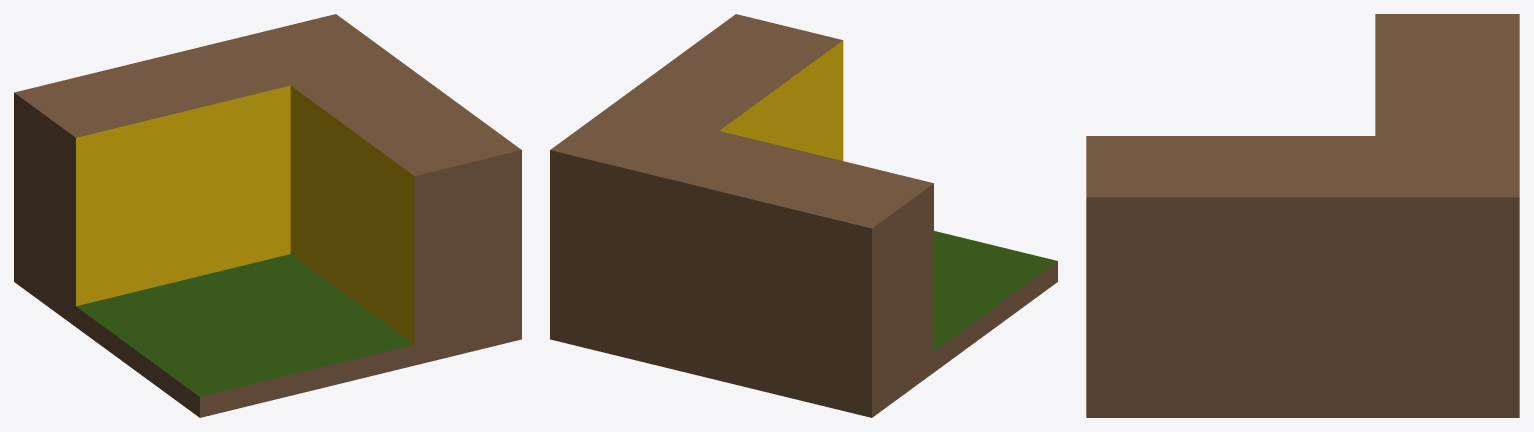
3 renders of one model, left to right at view 1: azimuth 30°, elevation 25°; view 2: azimuth 150°, elevation 25°; view 3: azimuth 270°, elevation 25°, orthographic. The views are drawn at different scales.
Parts seen in each view (by area): view 1: L; view 2: L; view 3: L.
Boxes of the visible parts, bbox=[...] form: L: bbox=[14, 14, 521, 417]; L: bbox=[550, 14, 1057, 417]; L: bbox=[1086, 14, 1519, 417].
Bounding box in the file's own units: 2 × 1.12 × 2.
1 material, 1 textured.
